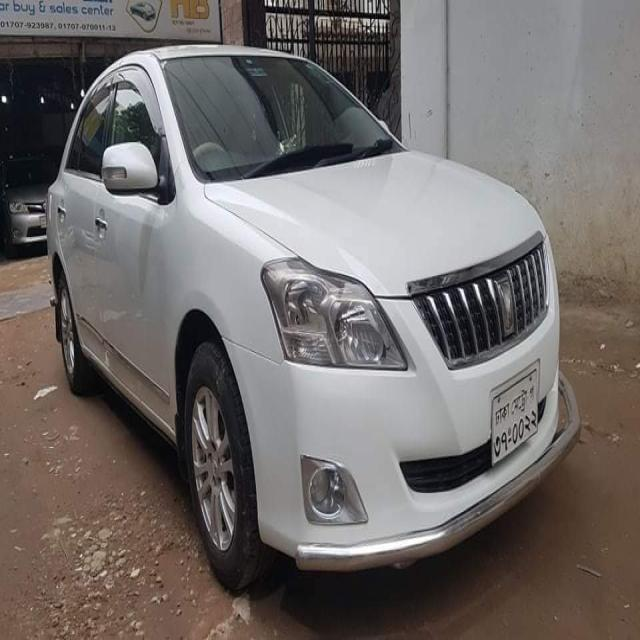white: (53, 36, 569, 550)
